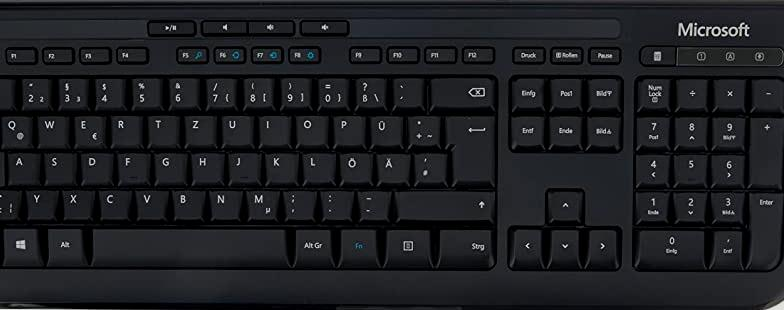0: (313, 74, 346, 107)
1: (1, 74, 16, 108)
2: (17, 74, 49, 108)
3: (54, 73, 85, 108)
4: (91, 73, 122, 108)
5: (127, 73, 159, 107)
6: (165, 73, 197, 107)
7: (202, 73, 234, 107)
8: (239, 73, 271, 107)
9: (277, 73, 309, 107)
a: (5, 148, 38, 184)
accent: (389, 74, 420, 106)
ae: (374, 149, 408, 182)
alt-left: (44, 223, 82, 263)
altgr-right: (291, 224, 331, 265)
b: (169, 185, 202, 218)
c: (96, 185, 129, 218)
caret: (1, 73, 17, 109)
comma: (280, 186, 313, 219)
d: (78, 148, 111, 183)
del: (427, 72, 494, 108)
e: (70, 111, 102, 146)
enter: (443, 112, 493, 184)
f: (115, 149, 147, 183)
g: (152, 148, 185, 182)
h: (189, 148, 221, 182)
hash: (411, 149, 444, 183)
i: (256, 111, 287, 144)
j: (226, 148, 257, 183)
k: (263, 149, 296, 182)
keyboard: (1, 1, 784, 309)
l: (300, 149, 333, 182)
less: (1, 185, 19, 219)
m: (243, 185, 276, 219)
minus: (354, 186, 386, 218)
n: (206, 185, 239, 218)
o: (292, 111, 325, 144)
oe: (337, 149, 370, 182)
p: (329, 111, 362, 144)
plus: (404, 111, 438, 144)
point: (317, 186, 350, 218)
q: (1, 111, 30, 146)
r: (107, 111, 139, 145)
s: (41, 149, 73, 183)
shift-left: (1, 186, 18, 218)
shift-lock: (1, 150, 26, 179)
shift-right: (393, 187, 492, 219)
space: (90, 222, 286, 267)
ss: (350, 73, 383, 107)
strg-left: (1, 223, 25, 265)
strg-right: (436, 225, 495, 267)
t: (145, 111, 176, 144)
tab: (1, 111, 24, 147)
u: (218, 111, 250, 144)
ue: (366, 111, 400, 145)
v: (133, 185, 165, 218)
w: (34, 110, 65, 146)
x: (60, 185, 91, 218)
y: (23, 185, 54, 219)
z: (181, 111, 214, 144)
